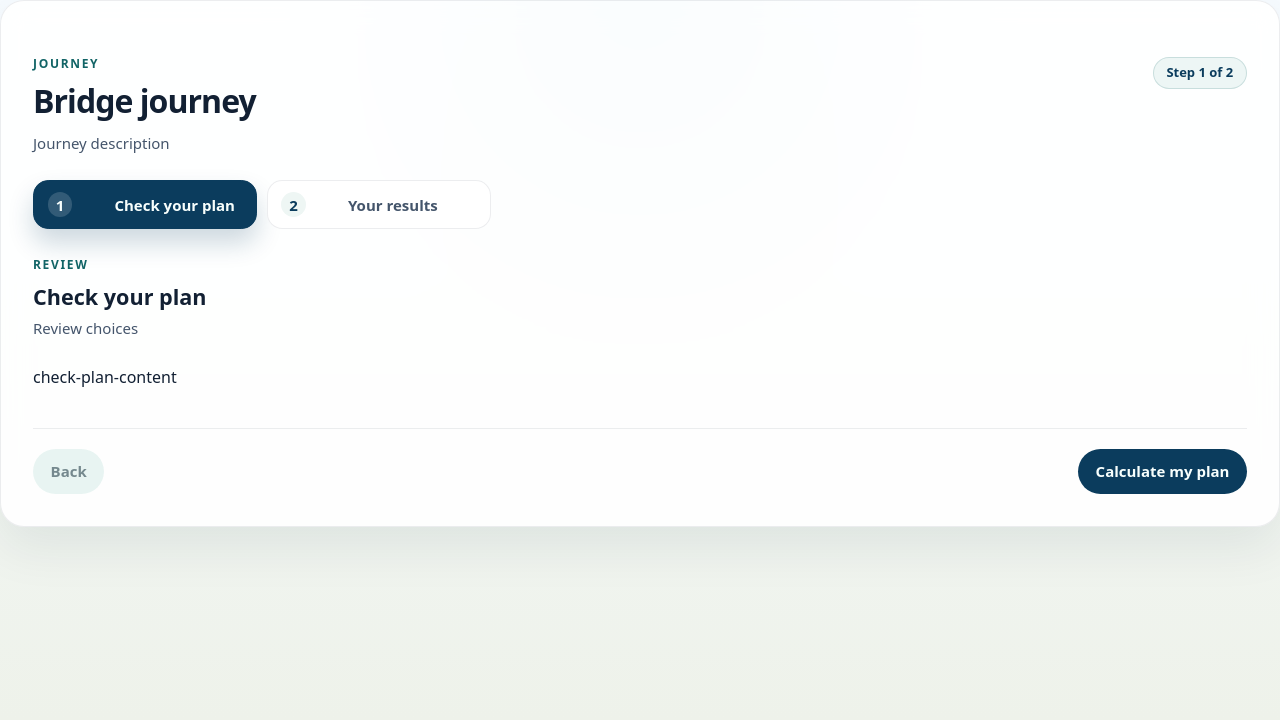
it: journey module › labels the action after a plan review as Calculate my plan
Click the button "Calculate my plan" at (1162, 471), box [1078,448,1247,494]
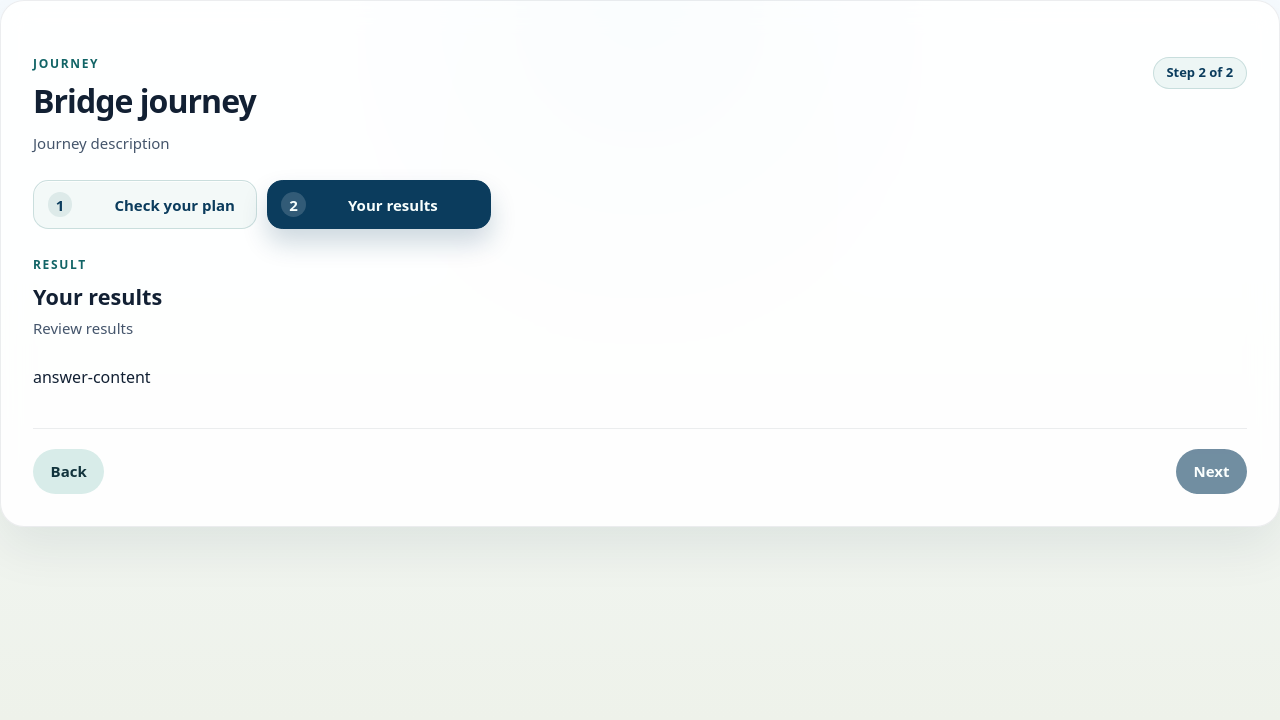
Now the text "answer-content" is shown, box [33,366,151,388]
